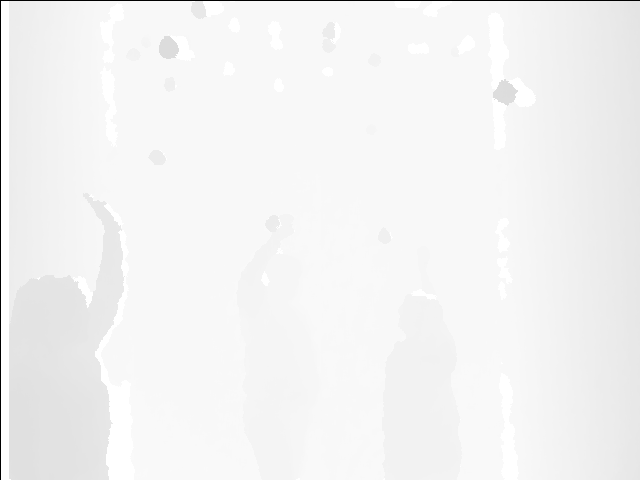hand: (81, 193, 125, 234), (280, 212, 298, 242), (415, 246, 433, 271)
